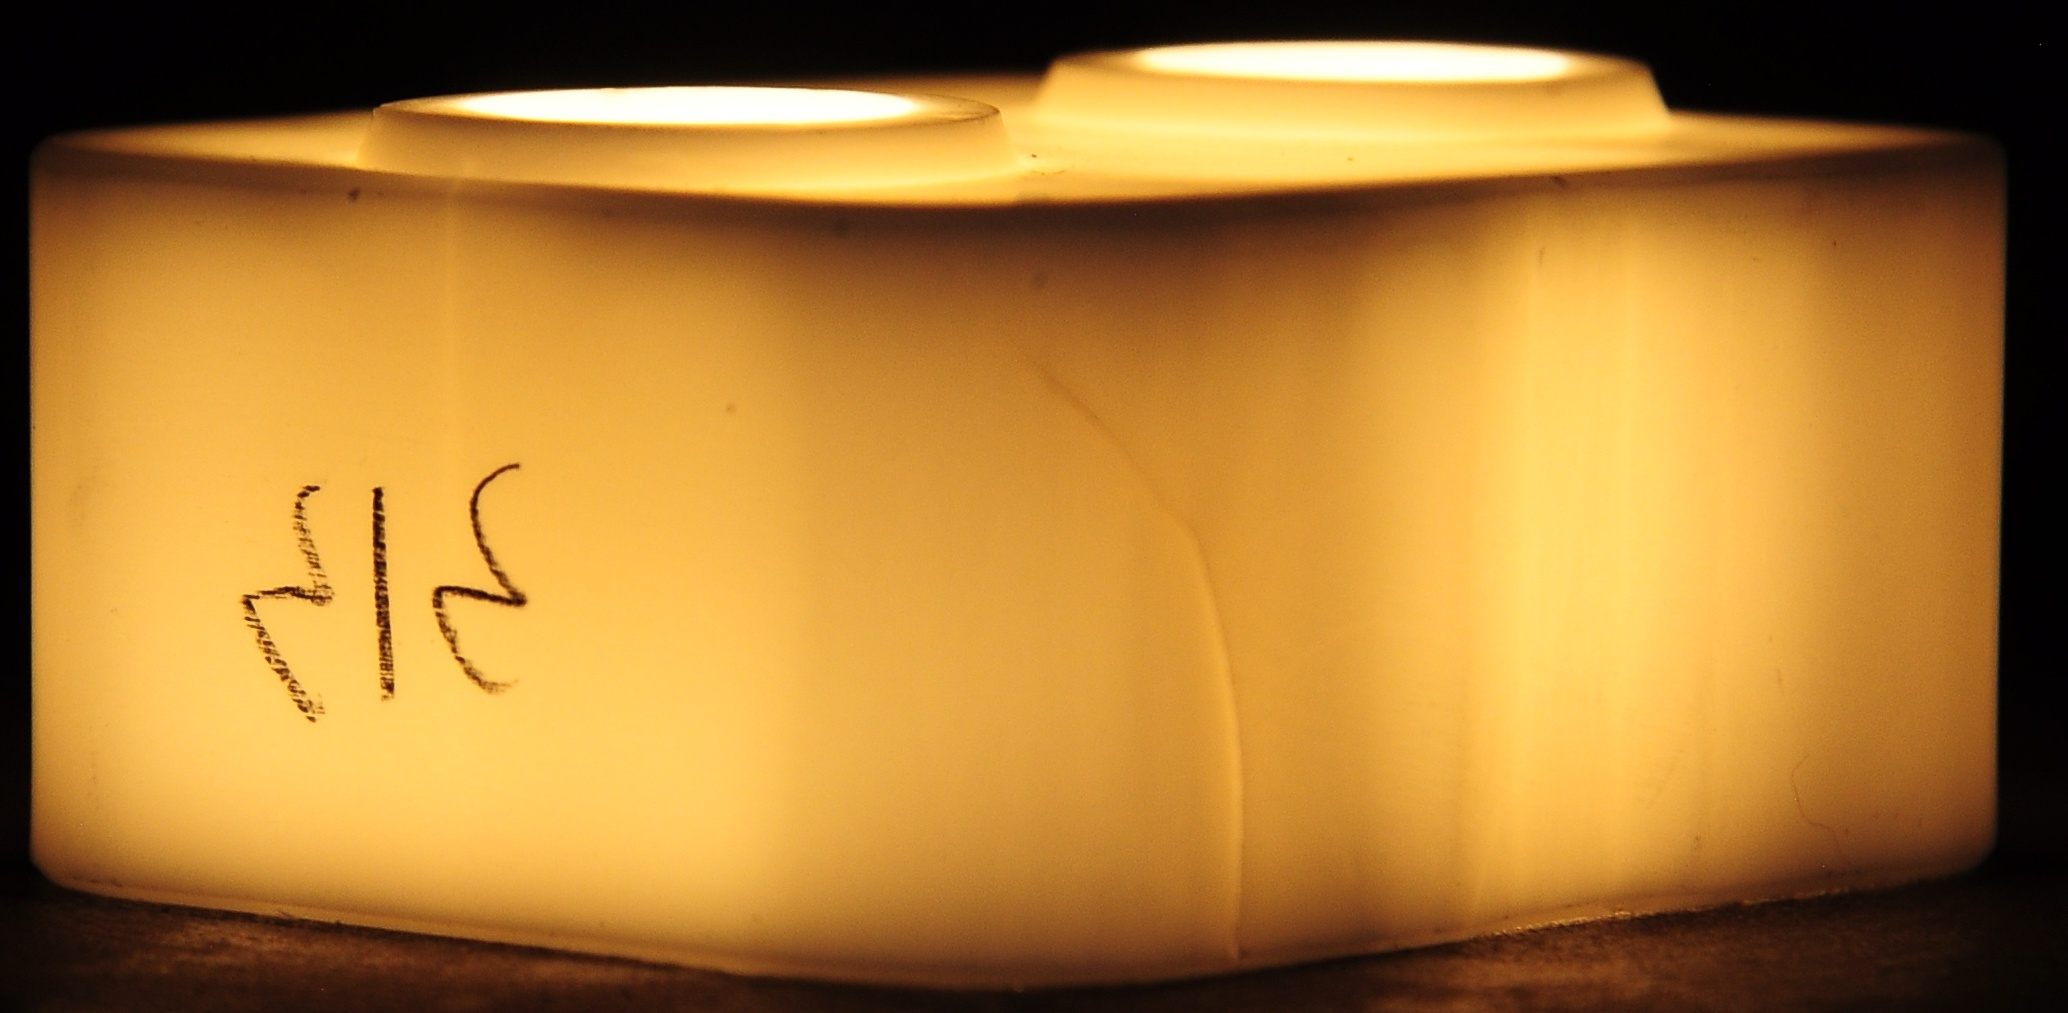flaw: (1205, 493, 1256, 981), (1072, 373, 1143, 518), (1153, 446, 1200, 572), (1016, 360, 1078, 425)
